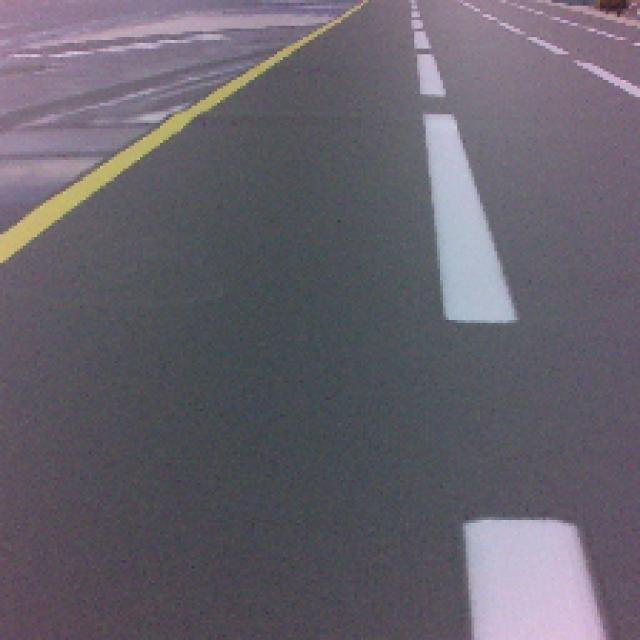Road: (0, 266, 475, 640)
